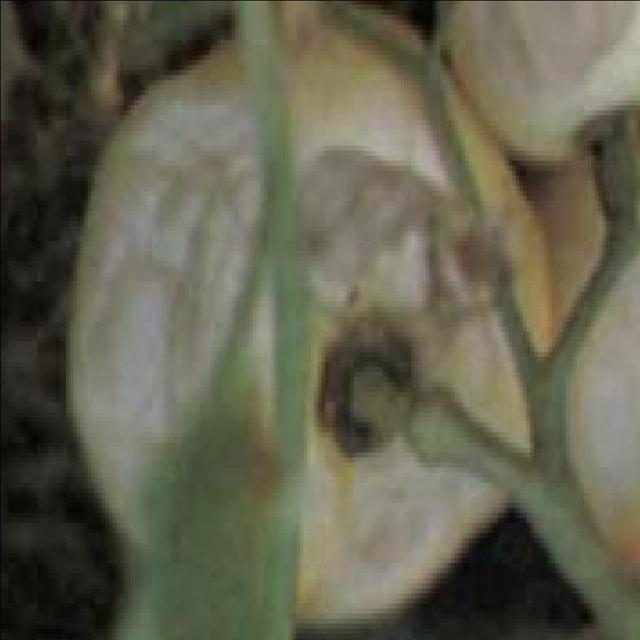Sunscald Fruit: (108, 161, 265, 208)
